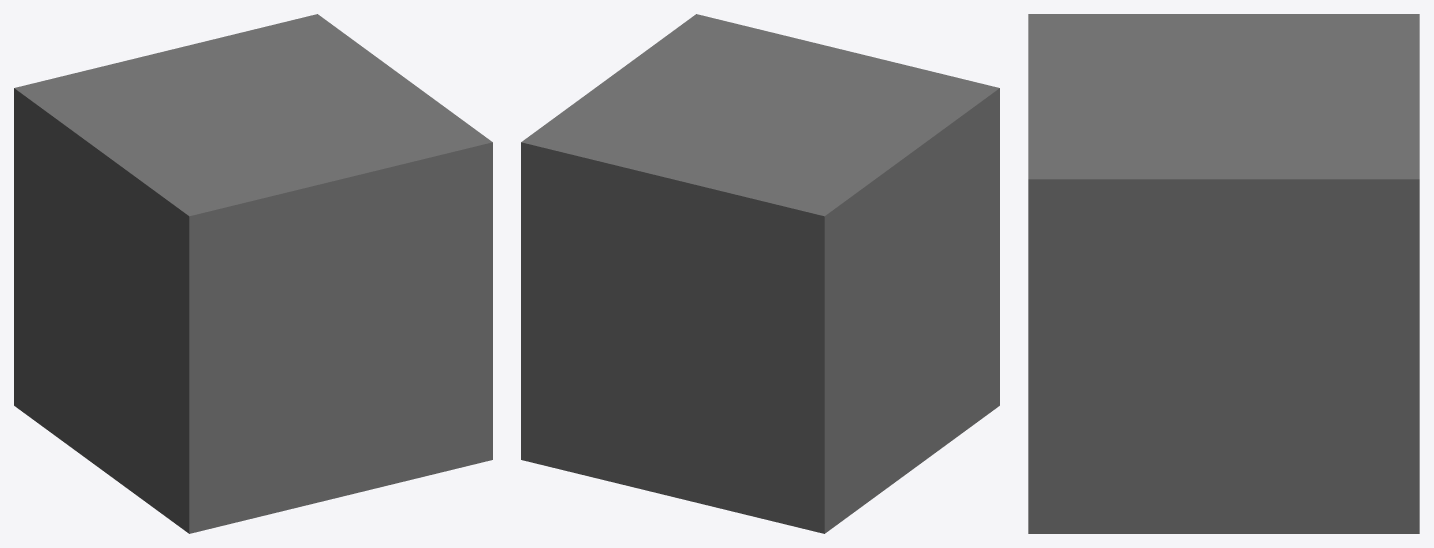
Rendered from Stone_Full.glb.
The picture shows the model from 3 angles, left to right: view 1: azimuth 30°, elevation 25°; view 2: azimuth 150°, elevation 25°; view 3: azimuth 270°, elevation 25°; orthographic projection. The views are drawn at different scales.
Visible parts, largest first — view 1: Stone_Full_body; view 2: Stone_Full_body; view 3: Stone_Full_body.
Part boxes in pixels (box(x1,y1,x2,y2)): Stone_Full_body: box(14, 14, 492, 533); Stone_Full_body: box(521, 14, 999, 533); Stone_Full_body: box(1028, 14, 1419, 533).
Bounding box in the file's own units: 1 × 1 × 1.
Materials: 1 (1 with a texture image).
